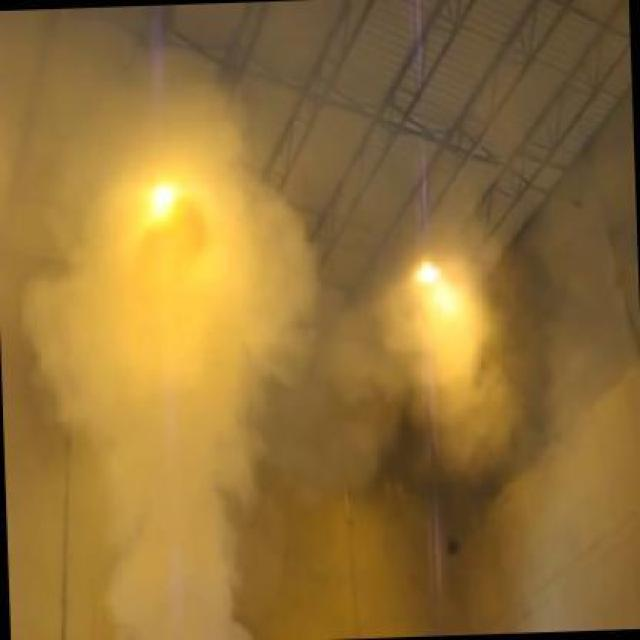fire: (17, 55, 326, 640), (381, 226, 537, 474)
